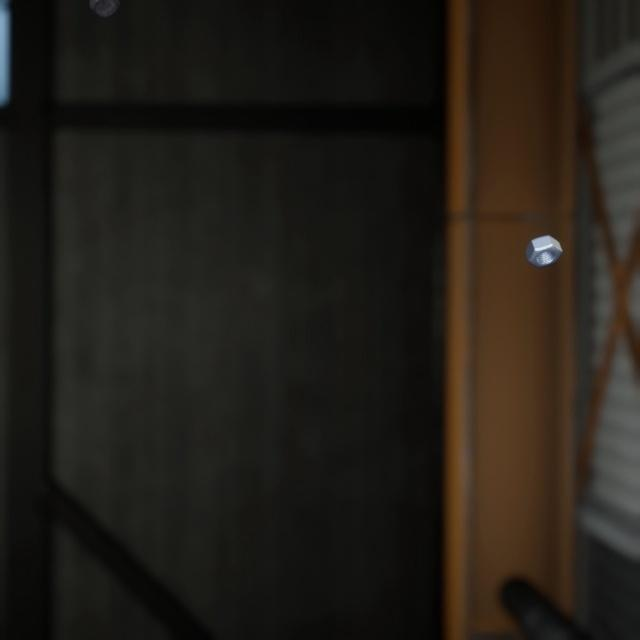nut: (520, 214, 567, 256)
